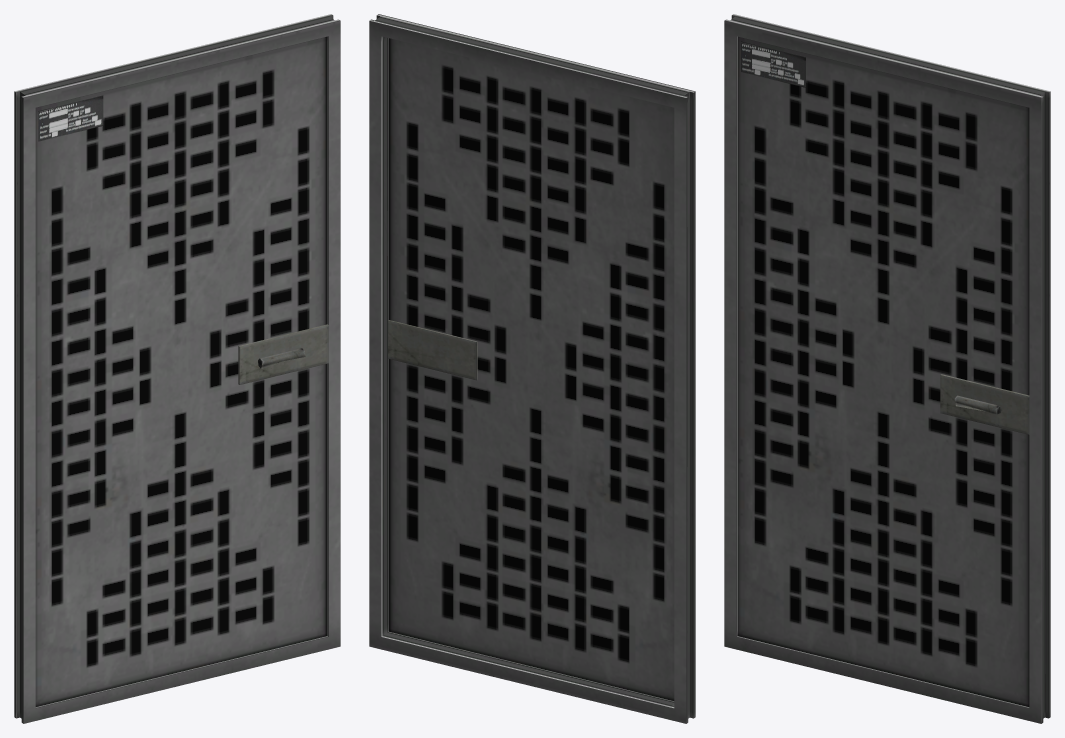
Rendered from ctl_locker_military_door_rt_lod1.glb.
The picture shows the model from 3 angles, left to right: view 1: azimuth 30°, elevation 25°; view 2: azimuth 150°, elevation 25°; view 3: azimuth 330°, elevation 25°; orthographic projection.
Visible parts, largest first — view 1: surf0, surf1; view 2: surf0, surf1; view 3: surf0, surf1.
Part boxes in pixels (x1,y1,x2,y2): surf0: [35, 36, 327, 706]; surf1: [14, 14, 340, 723]; surf0: [388, 38, 674, 700]; surf1: [369, 14, 695, 723]; surf0: [737, 36, 1029, 706]; surf1: [724, 14, 1050, 723].
Size of the model in its own units: 19.75 by 37.25 by 1.54.
